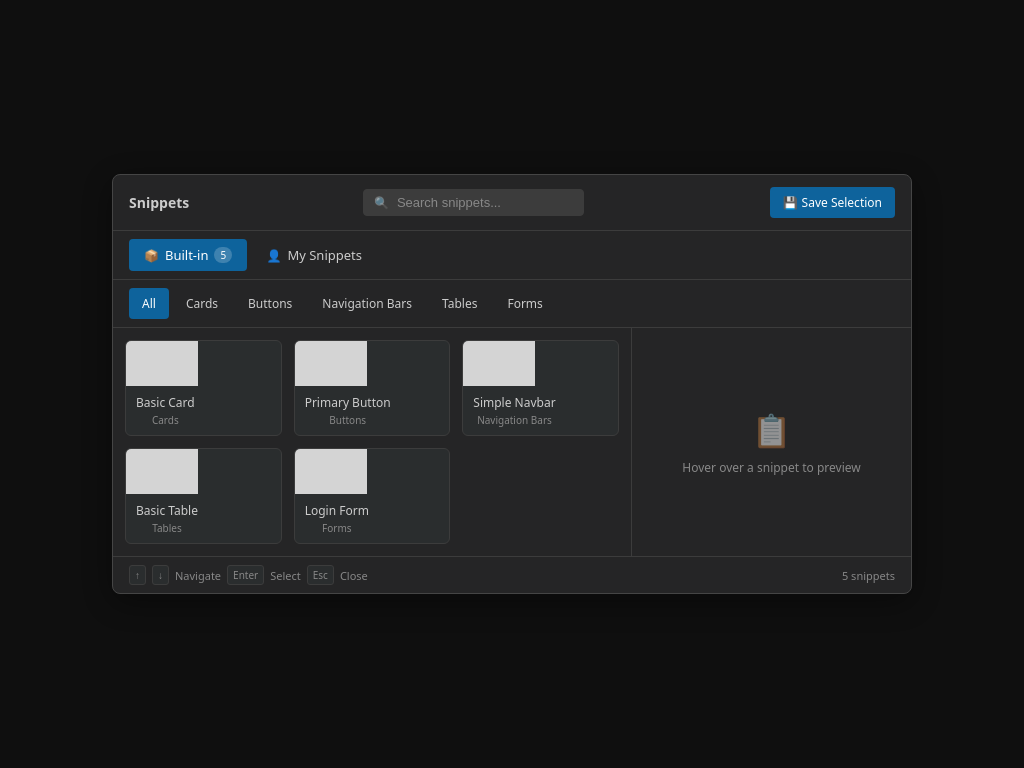
Test: SnippetSelector.vue › User Snippets › should show "No custom snippets yet" when user snippets is empty
// Click on My Snippets tab
Click the tab with class "tab-btn" showing "👤 My Snippets" at (314, 255), box [251,239,377,271]
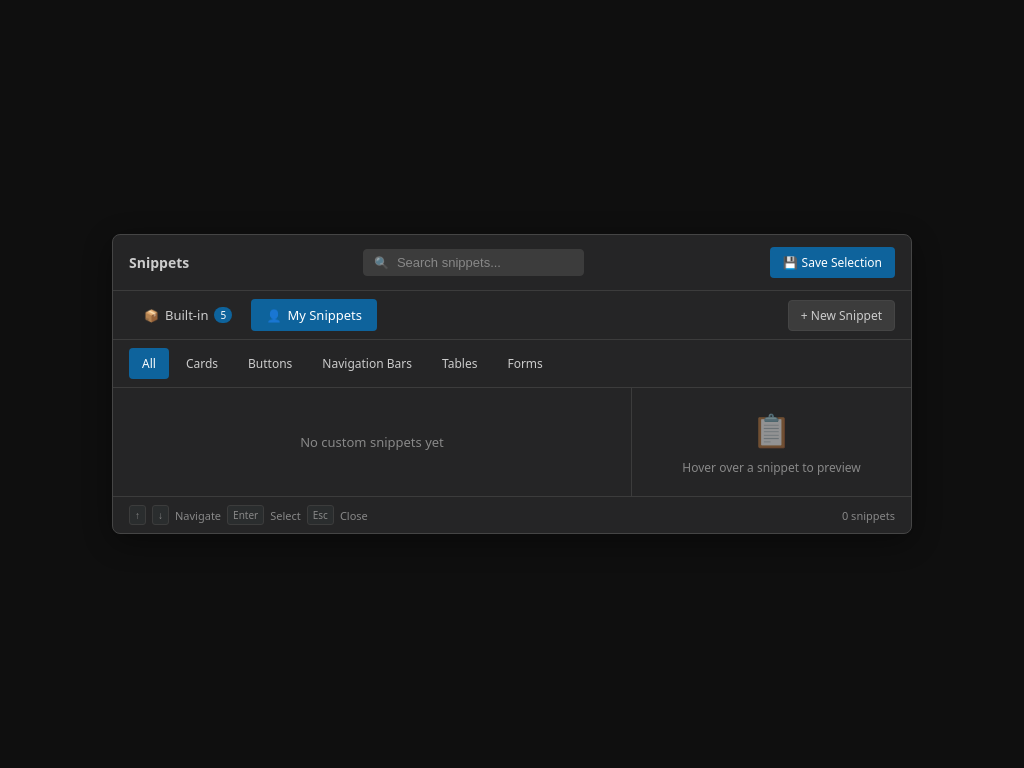
expect the element with class "no-results" reads "No custom snippets yet": met, box [300,433,444,451]
